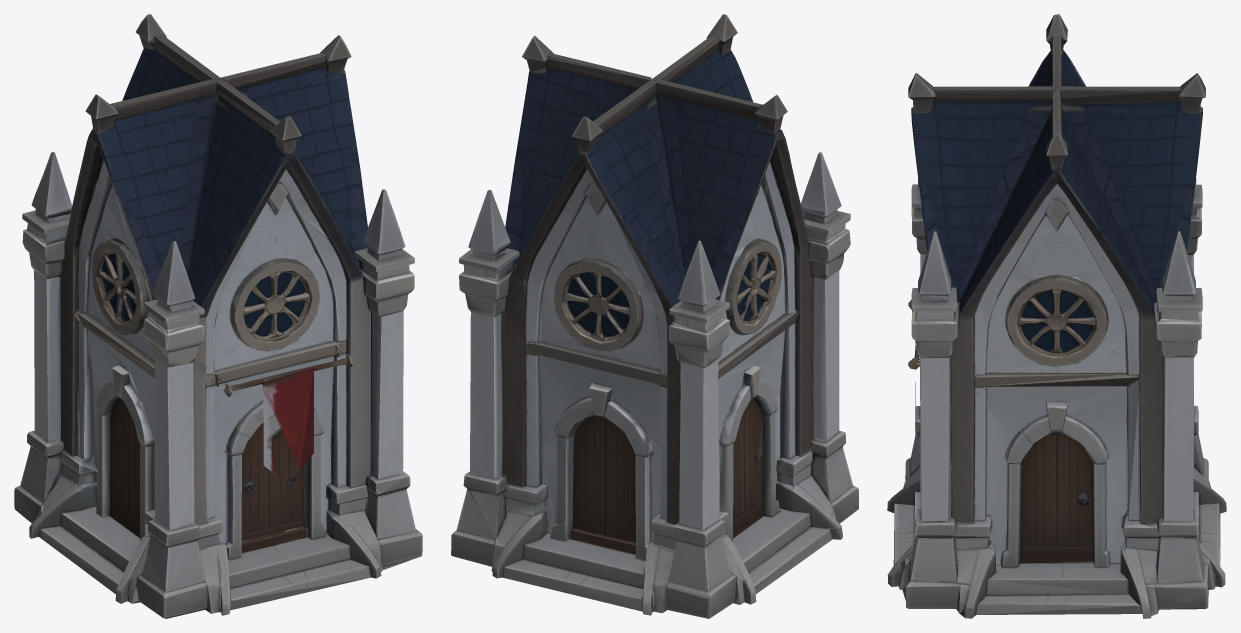
File: great_hall.glb
3 renders of one model, left to right at view 1: azimuth 30°, elevation 25°; view 2: azimuth 150°, elevation 25°; view 3: azimuth 270°, elevation 25°, orthographic.
Parts seen in each view (by area): view 1: great_hall; view 2: great_hall; view 3: great_hall.
Part boxes in pixels (bbox=[...]): great_hall: bbox=[14, 14, 422, 618]; great_hall: bbox=[451, 14, 858, 618]; great_hall: bbox=[887, 14, 1226, 618].
Size of the model in its own units: 8.34 by 13 by 8.41.
Materials: 1 (1 with a texture image).
